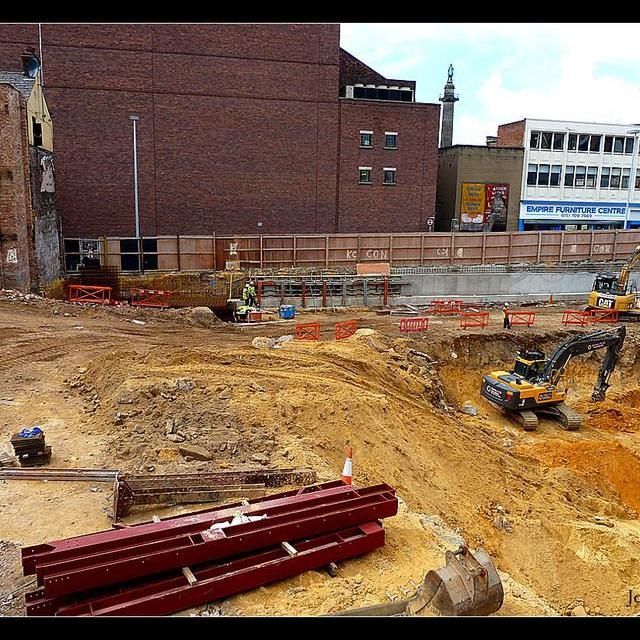Excavator: (479, 325, 633, 434), (582, 234, 640, 326)
Hardhat: (245, 283, 249, 288), (505, 302, 509, 306), (250, 281, 254, 284)
Person: (502, 302, 511, 329), (249, 281, 258, 307), (243, 283, 250, 305)
Safety Cone: (340, 447, 353, 487), (549, 293, 553, 304)
Safety Vest: (502, 307, 508, 320), (243, 288, 250, 299), (250, 287, 255, 294)
